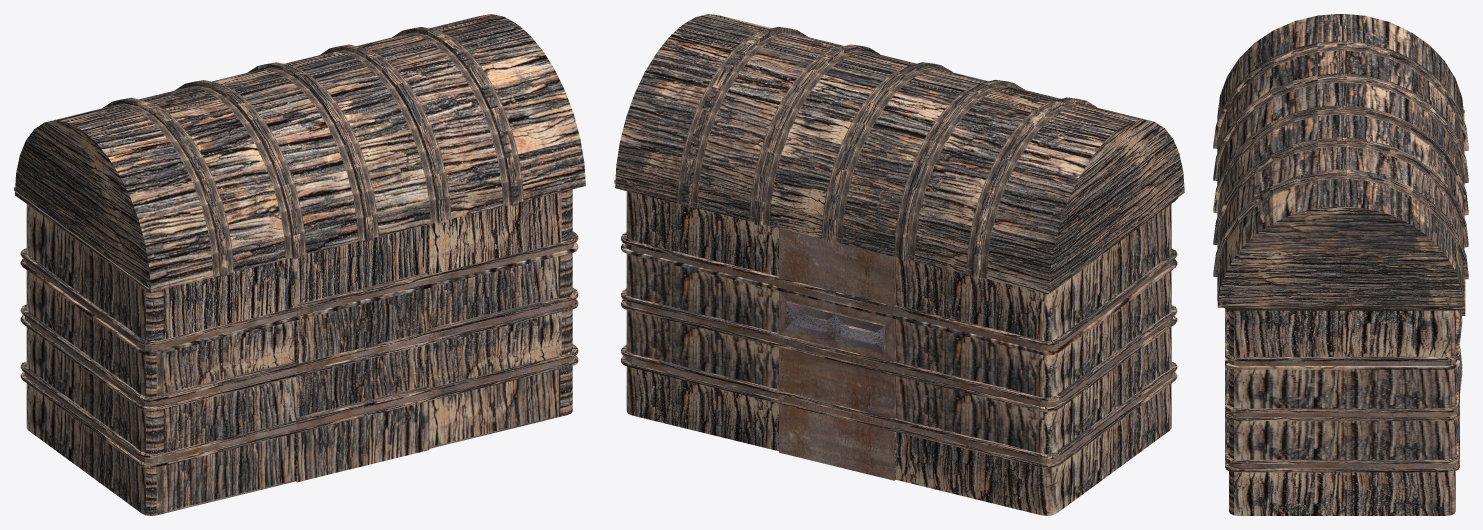
Rendered from Cofre.obj.
The picture shows the model from 3 angles, left to right: view 1: azimuth 30°, elevation 25°; view 2: azimuth 150°, elevation 25°; view 3: azimuth 270°, elevation 25°; orthographic projection. The views are drawn at different scales.
Parts seen in each view (by area): view 1: Cube; view 2: Cube; view 3: Cube.
Boxes of the visible parts, x1,y1,x2,y2 form: Cube: [14, 14, 585, 515]; Cube: [614, 14, 1184, 515]; Cube: [1213, 14, 1468, 515].
Size of the model in its own units: 4.05 by 3.06 by 2.26.
4 materials, 4 textured.
